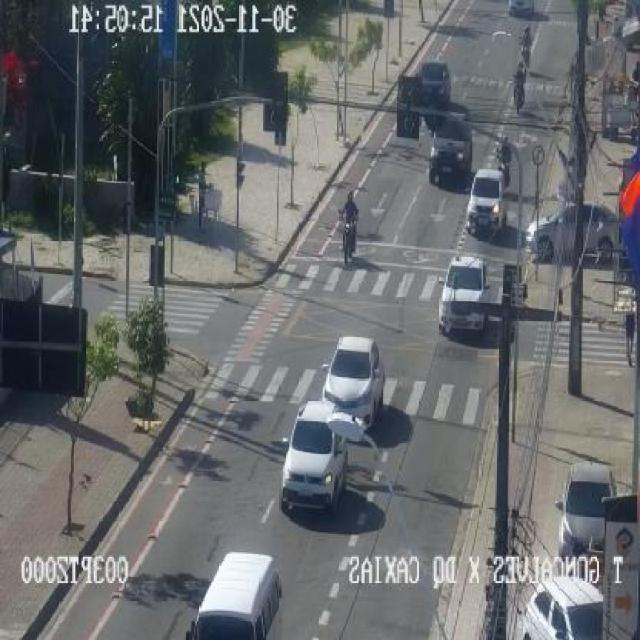Car: (421, 251, 502, 353), (321, 320, 388, 410), (519, 208, 623, 257), (429, 111, 472, 201), (404, 59, 458, 118), (463, 182, 504, 242), (503, 0, 547, 17)
Cycle: (334, 178, 376, 266), (506, 68, 539, 124), (497, 131, 528, 187), (514, 28, 540, 68)
Van: (272, 403, 354, 511), (193, 547, 287, 640)
